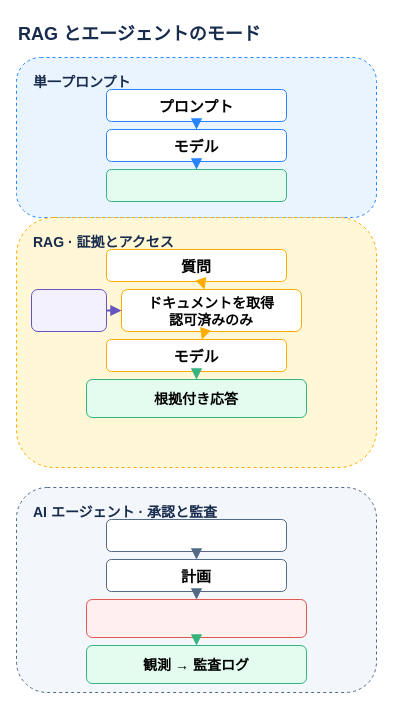
This 393x709 diagram has some shape labels left out. Here are the shapes that lost their labels. From the top down, the box of each, then its label:
(106, 168, 286, 202): 応答
(30, 288, 106, 332): ドキュメント ストア
(106, 518, 286, 552): 目標
(86, 598, 306, 638): ツール + 承認
